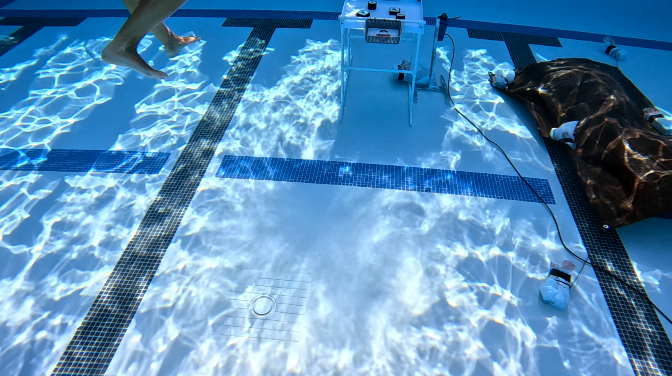sandbag: (490, 45, 671, 229)
